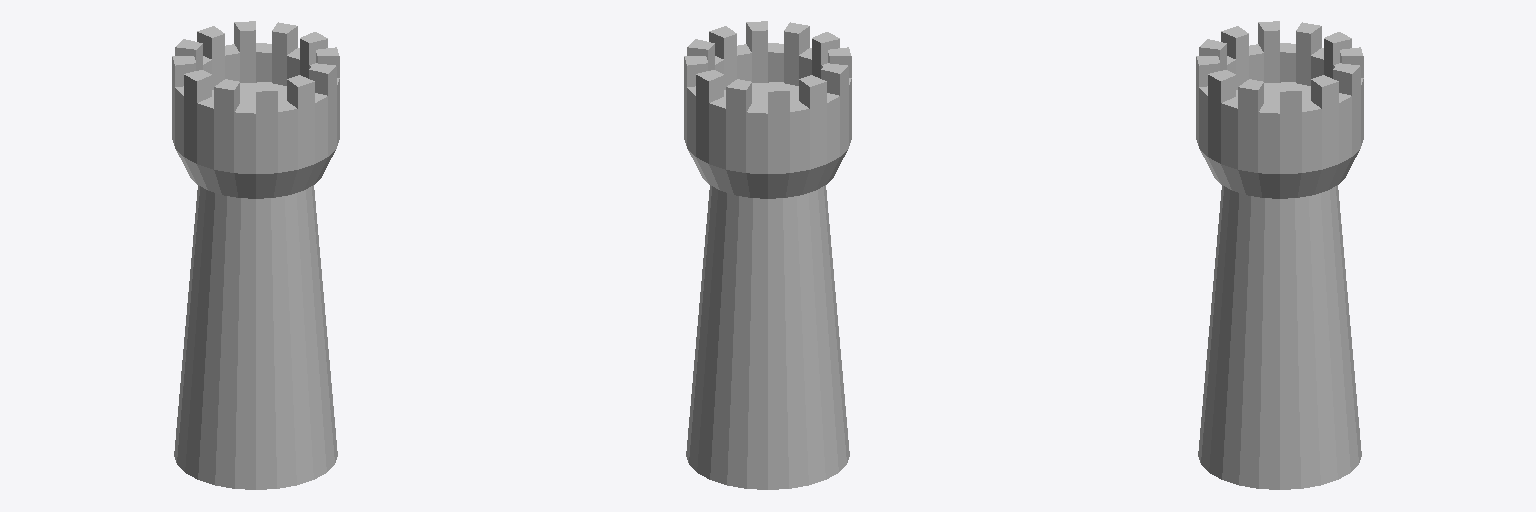
File: tower.obj
3 views of the same model, side by side, from view 1: azimuth 30°, elevation 25°; view 2: azimuth 150°, elevation 25°; view 3: azimuth 270°, elevation 25° (orthographic).
Parts seen in each view (by area): view 1: Mesh1 Group1 Model; view 2: Mesh1 Group1 Model; view 3: Mesh1 Group1 Model.
Part boxes in pixels (x1,y1,x2,y2): Mesh1 Group1 Model: (172, 21, 339, 489); Mesh1 Group1 Model: (684, 21, 851, 489); Mesh1 Group1 Model: (1196, 21, 1363, 489).
Bounding box in the file's own units: 6.13 × 16.13 × 6.13.